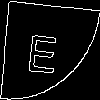E: (25, 25, 60, 74)
